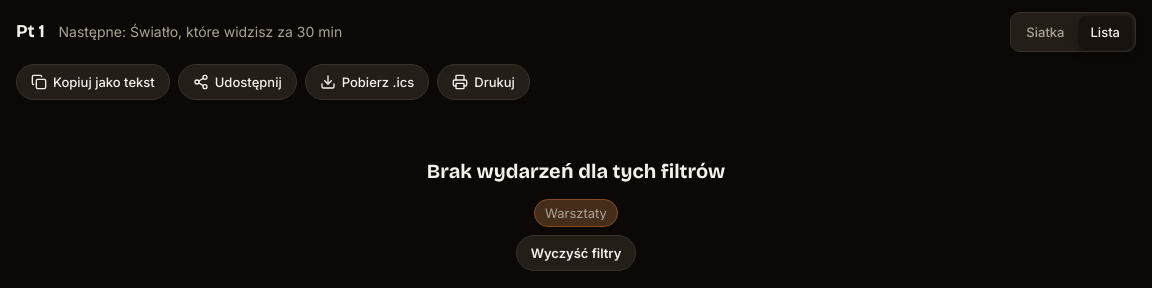
it: PlanView empty states › offers Wyczyść filtry when a facet hides every plan session of the day
Expected: the heading "Brak wydarzeń dla tych filtrów" is shown, [427,160,725,183]
Click the button "Wyczyść filtry" at (576,253), box [516,235,636,271]
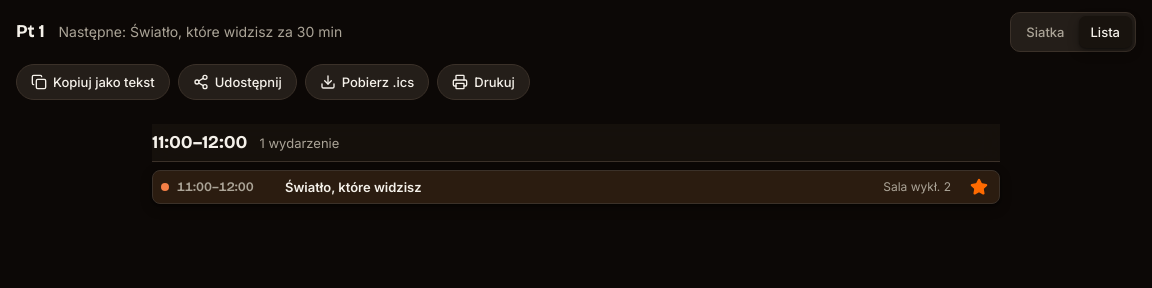
Expected: the text "Światło, które widzisz" is shown, [285,179,422,195]
